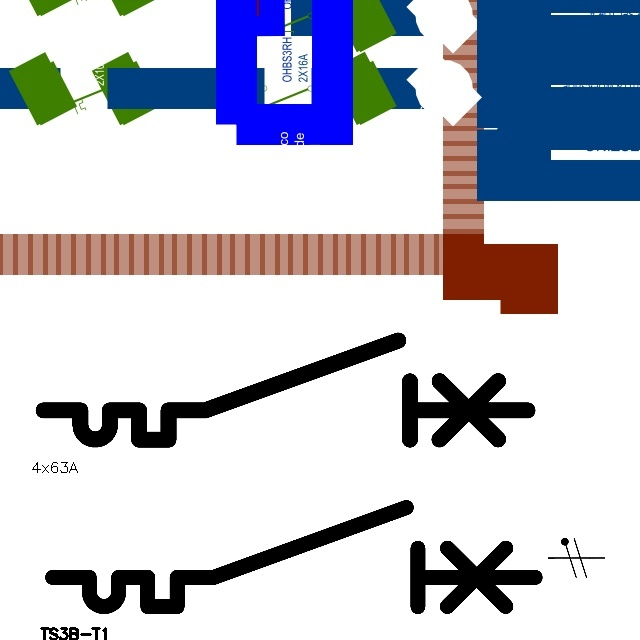interruptor_termomagnetico: (31, 328, 539, 452), (40, 495, 547, 619)
